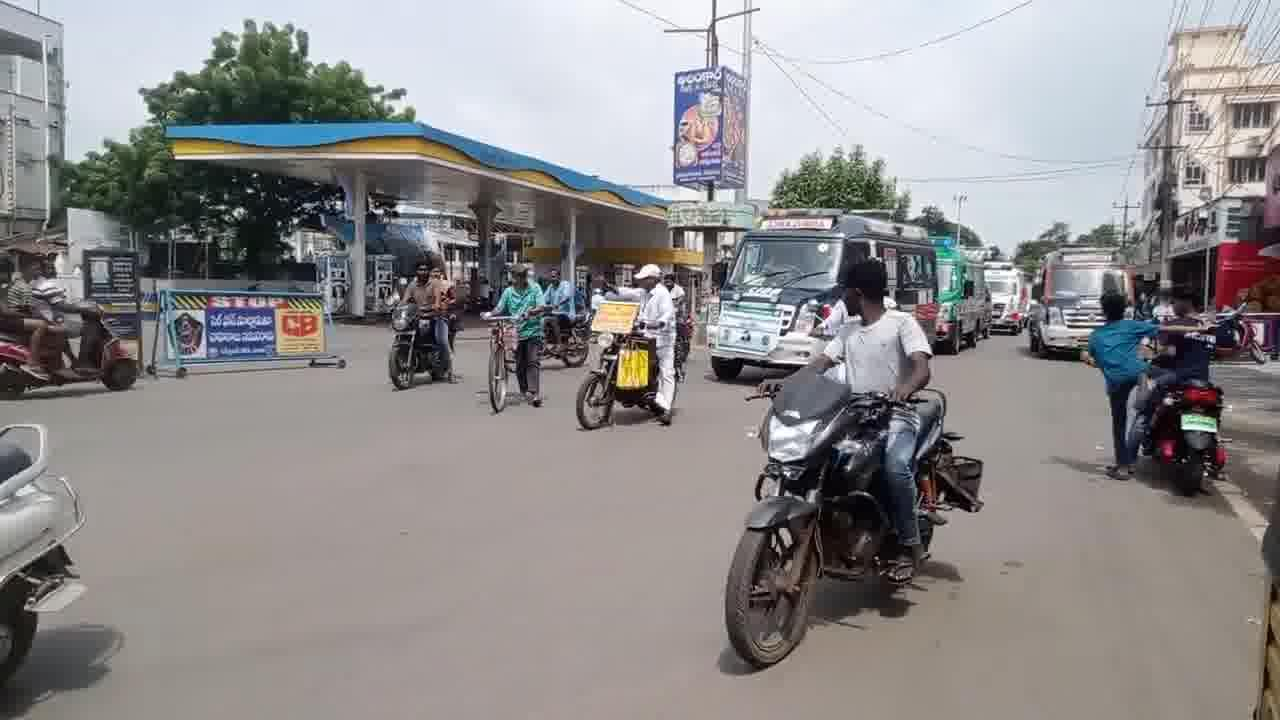AMBULANCE: (712, 197, 942, 363), (1030, 239, 1143, 354), (964, 226, 1026, 352)
